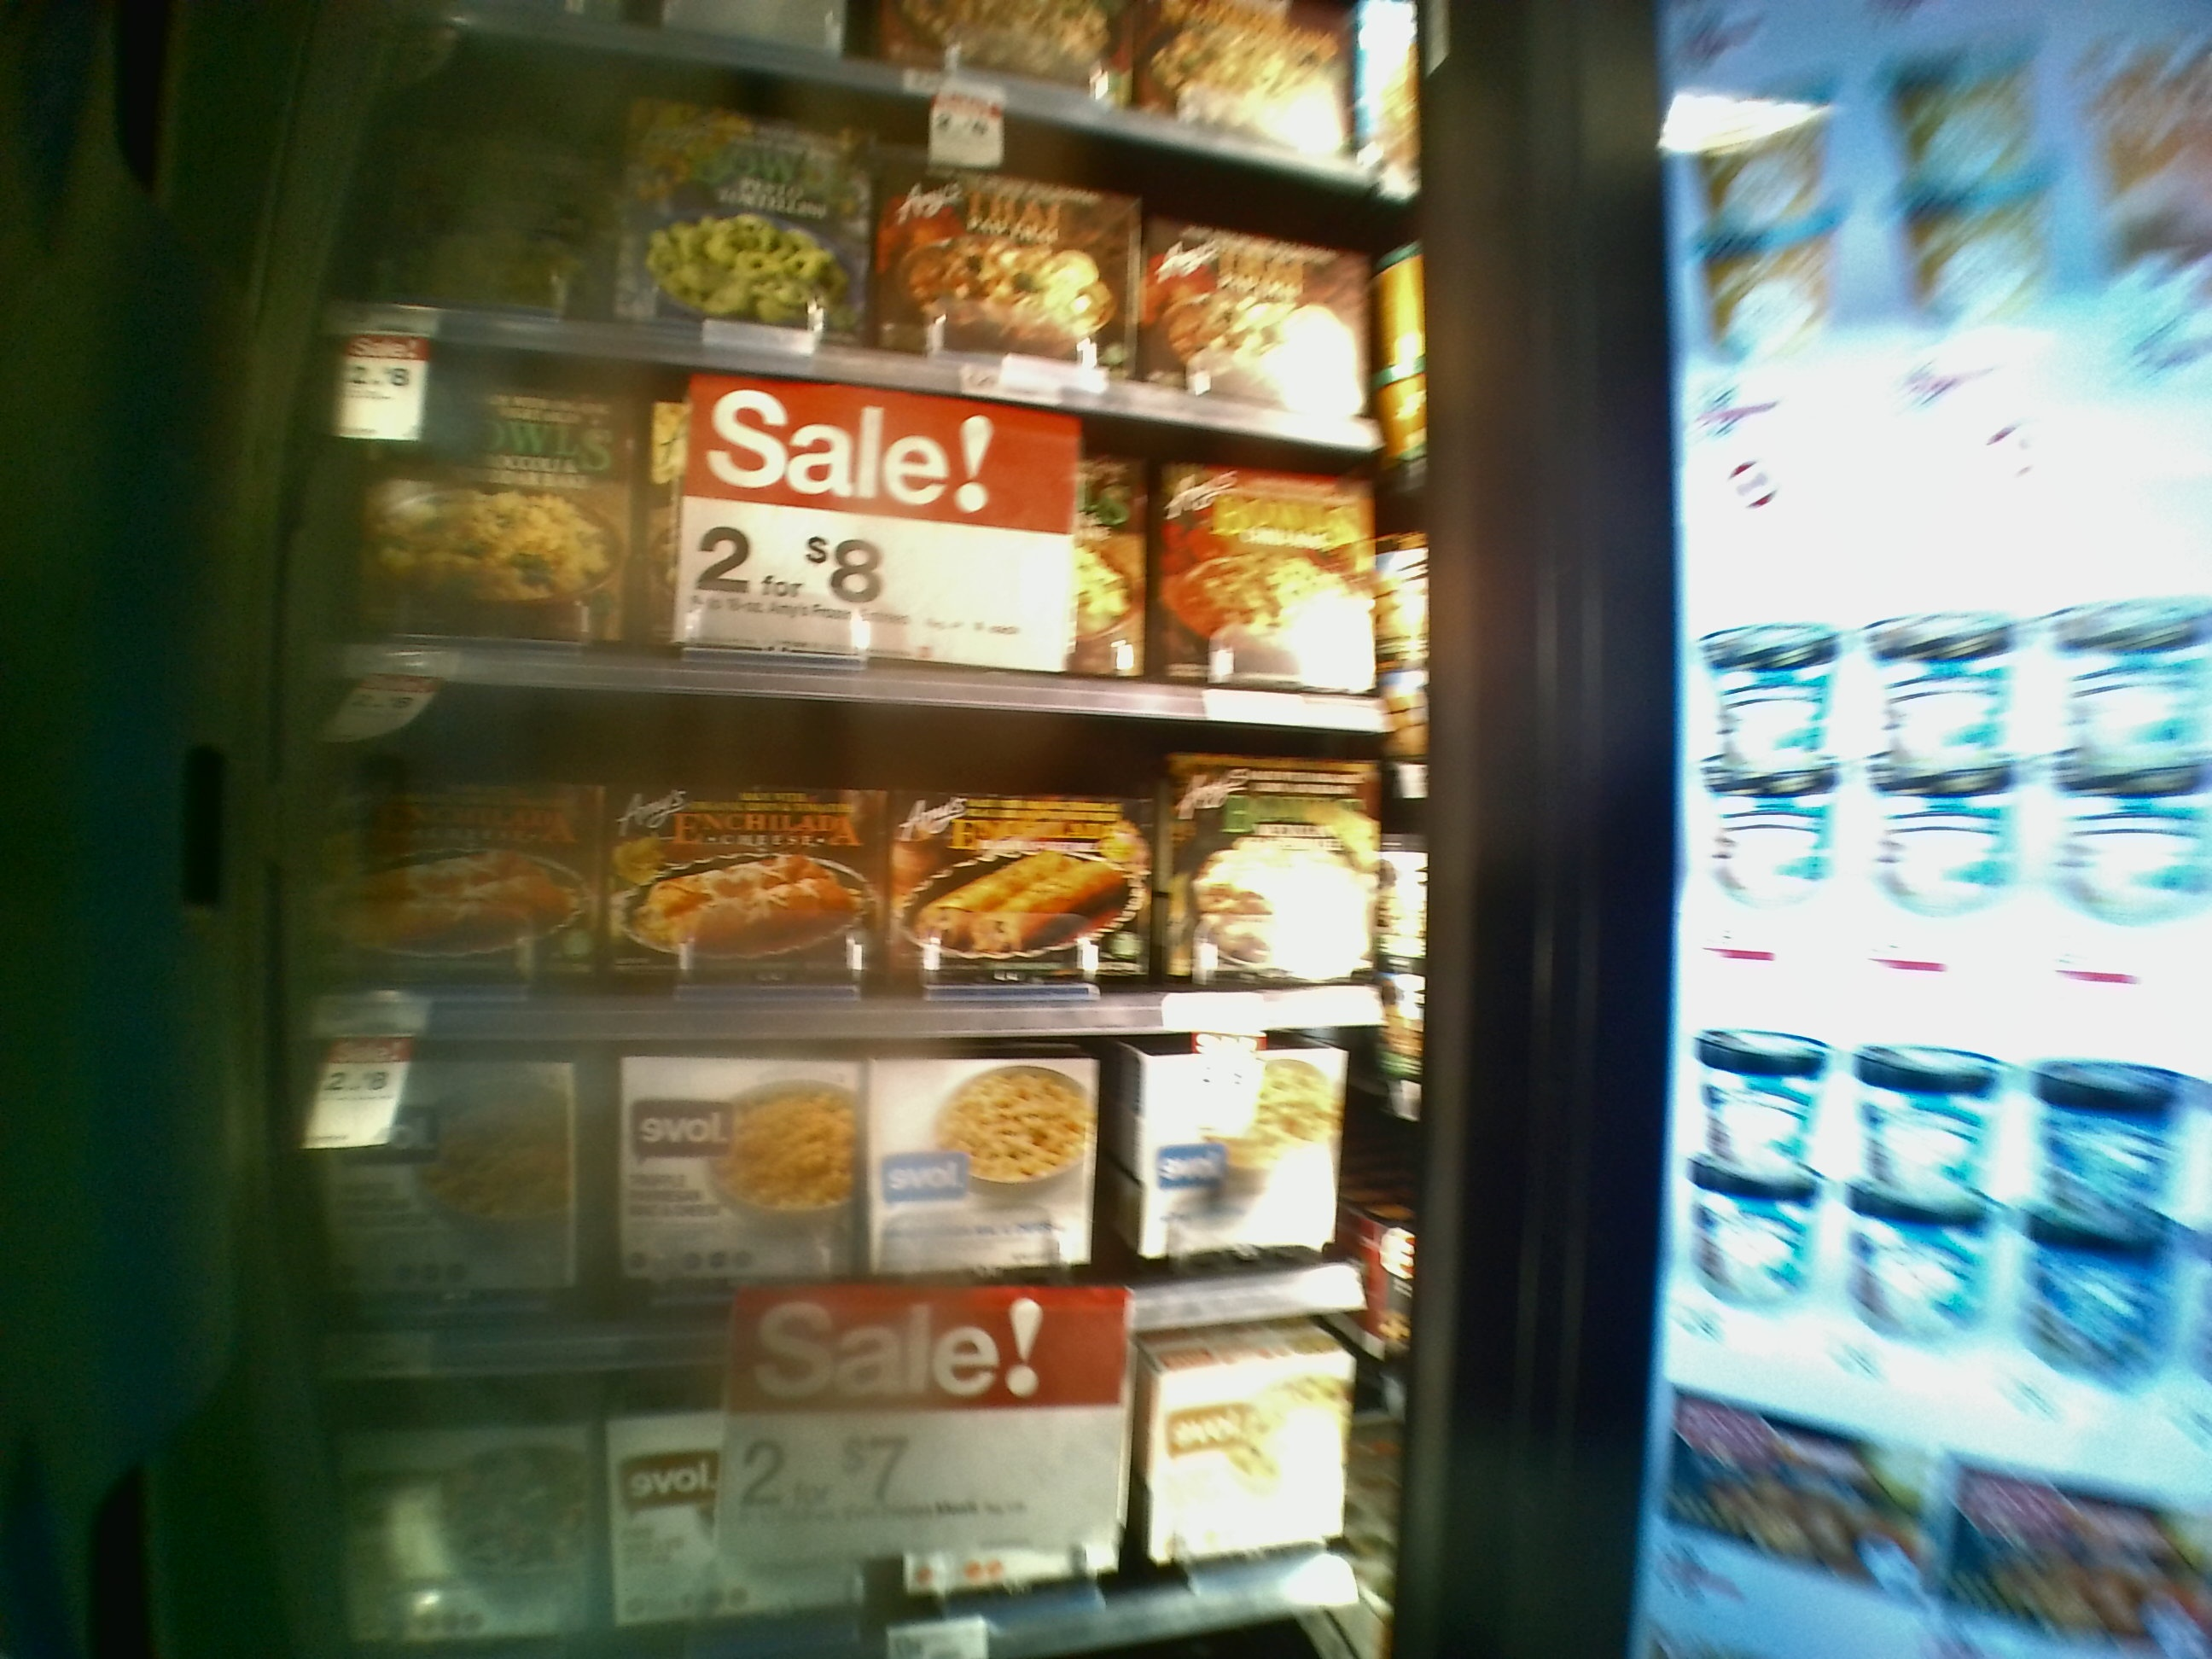shelf: (315, 387, 1414, 714), (340, 711, 1399, 1047), (315, 1053, 1402, 1380), (312, 101, 1395, 399), (338, 1385, 1416, 1659)
